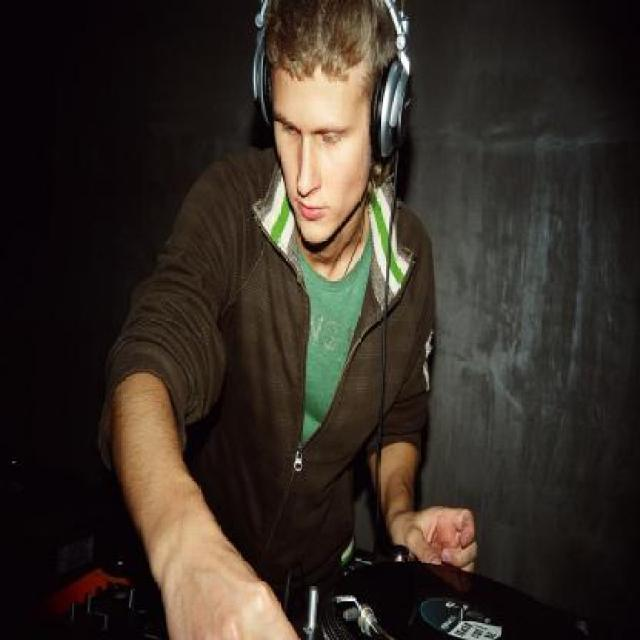earphone: (210, 0, 457, 150)
